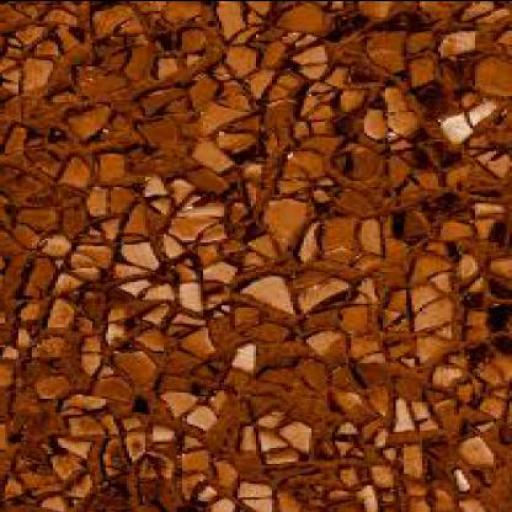glass: (1, 1, 511, 511), (438, 95, 502, 149), (336, 28, 394, 79), (440, 445, 494, 497), (298, 267, 354, 313), (369, 94, 425, 140), (126, 144, 206, 176), (301, 300, 372, 336), (270, 192, 316, 247), (3, 160, 50, 212), (3, 127, 52, 176), (29, 123, 95, 158), (264, 96, 306, 150), (3, 54, 52, 100), (74, 64, 127, 106), (142, 0, 211, 32), (19, 250, 68, 295), (434, 393, 482, 438), (464, 110, 512, 155), (438, 152, 483, 198), (472, 50, 510, 104), (346, 140, 392, 184), (126, 301, 180, 338), (8, 18, 55, 60), (2, 205, 60, 239), (2, 87, 60, 121), (433, 59, 475, 105), (409, 248, 454, 290), (460, 432, 509, 470), (258, 334, 316, 366), (280, 2, 338, 34), (248, 273, 301, 308), (198, 97, 251, 132), (295, 352, 335, 398), (2, 220, 42, 266), (100, 144, 142, 186), (68, 407, 130, 435), (346, 174, 392, 211), (105, 71, 158, 103), (29, 409, 71, 449), (396, 167, 443, 202), (108, 44, 155, 79), (212, 392, 256, 429), (338, 386, 382, 423), (185, 396, 230, 432), (26, 334, 71, 370), (176, 207, 230, 237), (68, 486, 132, 511), (306, 324, 356, 356), (214, 364, 259, 399), (2, 116, 37, 161), (119, 345, 163, 380), (478, 334, 510, 382), (96, 0, 144, 32), (238, 370, 290, 399), (40, 42, 92, 71), (204, 223, 248, 257), (282, 38, 322, 75), (385, 152, 420, 194), (72, 102, 114, 137), (32, 180, 84, 208), (482, 144, 510, 196), (375, 291, 414, 328), (2, 250, 34, 295), (380, 25, 412, 70), (332, 1, 373, 36), (446, 275, 499, 302), (53, 432, 97, 464), (285, 409, 317, 453), (135, 453, 174, 489), (102, 262, 156, 288), (56, 150, 92, 188), (298, 142, 336, 178), (214, 312, 254, 346), (180, 324, 222, 356), (2, 1, 48, 30), (224, 41, 262, 76), (444, 251, 480, 287), (21, 454, 58, 489), (356, 358, 398, 388), (108, 437, 140, 476), (201, 142, 240, 174), (148, 111, 187, 143), (114, 93, 153, 125), (48, 82, 95, 108), (322, 356, 364, 385), (124, 198, 162, 230), (256, 150, 288, 188), (367, 0, 422, 22), (219, 79, 259, 109), (240, 475, 274, 510), (364, 245, 399, 279), (367, 110, 401, 145), (431, 352, 475, 379), (301, 395, 338, 427), (232, 160, 269, 192), (190, 162, 232, 190), (248, 425, 287, 455), (454, 230, 499, 256), (103, 118, 148, 144), (452, 24, 491, 54), (50, 296, 84, 330), (338, 77, 372, 111), (180, 439, 216, 471), (303, 214, 327, 262), (408, 395, 440, 430), (393, 356, 425, 391), (227, 185, 259, 220), (286, 466, 332, 490), (3, 415, 27, 461), (126, 238, 164, 267), (235, 17, 279, 42), (150, 476, 182, 510), (53, 259, 87, 291), (192, 71, 224, 105), (150, 85, 187, 114), (29, 101, 66, 130), (72, 385, 114, 410), (311, 71, 346, 101), (274, 27, 304, 62), (261, 460, 325, 476), (206, 63, 238, 95), (64, 20, 96, 52), (100, 374, 138, 400), (258, 76, 296, 102), (153, 417, 188, 445), (2, 356, 18, 417), (185, 49, 224, 74), (232, 340, 262, 372), (258, 225, 288, 257), (270, 174, 318, 194), (246, 65, 278, 95), (82, 348, 116, 376), (491, 5, 511, 52), (393, 429, 451, 445), (232, 303, 264, 332), (37, 374, 79, 396), (53, 0, 95, 22), (346, 283, 380, 310), (193, 24, 227, 51), (404, 438, 430, 473), (174, 342, 209, 368), (364, 212, 399, 238), (295, 52, 330, 78), (84, 282, 114, 312), (150, 24, 180, 54), (433, 269, 467, 295), (251, 320, 291, 342), (470, 207, 499, 237), (203, 279, 235, 306), (411, 56, 438, 88), (106, 296, 145, 318), (143, 279, 182, 301), (219, 2, 252, 28), (3, 475, 27, 510), (443, 214, 475, 240), (171, 172, 203, 198), (416, 22, 448, 48), (372, 381, 396, 415), (345, 456, 370, 488), (332, 216, 357, 248), (393, 128, 425, 153), (140, 324, 176, 346), (156, 58, 192, 80), (24, 494, 73, 510), (182, 200, 227, 217), (372, 458, 401, 484), (161, 93, 190, 119), (482, 1, 511, 27), (226, 195, 256, 220), (248, 391, 285, 411), (280, 156, 317, 176), (438, 482, 464, 510), (242, 244, 270, 270), (71, 470, 100, 495), (177, 468, 206, 493), (306, 94, 335, 119), (92, 243, 122, 267), (398, 393, 420, 425), (119, 276, 151, 298), (322, 483, 359, 502), (164, 366, 203, 384), (26, 296, 53, 322), (319, 178, 346, 204), (232, 126, 259, 152), (166, 385, 201, 405), (487, 386, 511, 415), (412, 205, 441, 229), (491, 249, 511, 283), (32, 358, 58, 384), (69, 201, 90, 233), (337, 421, 362, 447), (23, 388, 48, 414), (145, 384, 169, 410), (108, 184, 132, 210), (171, 108, 198, 130), (256, 410, 293, 426), (214, 459, 238, 483), (267, 364, 311, 377), (262, 444, 304, 457), (282, 488, 306, 510), (55, 227, 79, 249), (374, 425, 399, 446), (404, 472, 433, 490), (203, 354, 233, 371), (295, 380, 314, 406), (95, 212, 124, 229), (13, 326, 37, 346), (311, 117, 335, 137), (362, 482, 380, 508), (185, 284, 203, 310), (79, 264, 108, 280), (2, 334, 21, 358), (466, 1, 500, 14), (399, 235, 411, 271), (240, 425, 261, 445), (82, 330, 108, 346), (95, 185, 111, 210), (121, 414, 151, 427), (250, 1, 276, 16), (216, 494, 243, 508), (412, 492, 432, 510), (467, 375, 483, 395), (222, 91, 238, 111), (198, 486, 222, 499), (301, 119, 317, 135), (135, 427, 147, 447), (388, 445, 401, 458), (85, 314, 95, 328)
